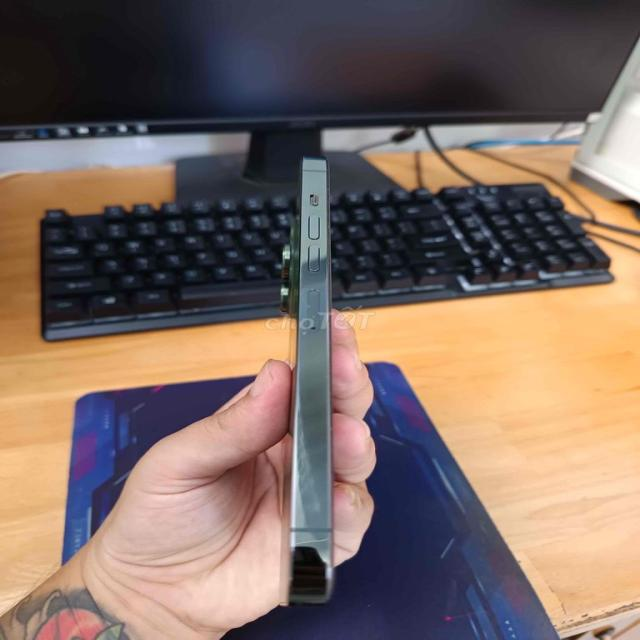scratch: (296, 282, 334, 351), (290, 526, 344, 566)
